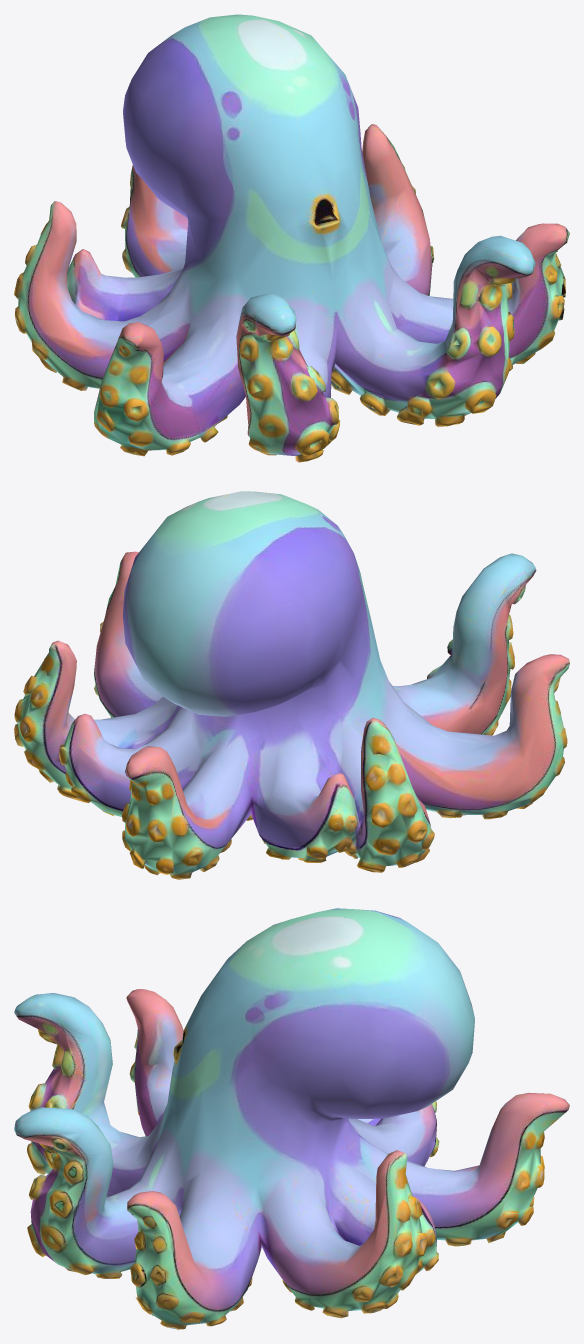
The model's file is octopus.glb.
3 renders of one model, top to bottom at view 1: azimuth 30°, elevation 25°; view 2: azimuth 150°, elevation 25°; view 3: azimuth 270°, elevation 25°, orthographic.
Parts seen in each view (by area): view 1: Mesh_0; view 2: Mesh_0; view 3: Mesh_0.
Boxes of the visible parts, left/top/right/bottom form: Mesh_0: left=14, top=14, right=569, bottom=462; Mesh_0: left=14, top=491, right=569, bottom=879; Mesh_0: left=14, top=908, right=569, bottom=1329.
Bounding box in the file's own units: 1.82 × 1.2 × 1.9.
Materials: 1 (1 with a texture image).
